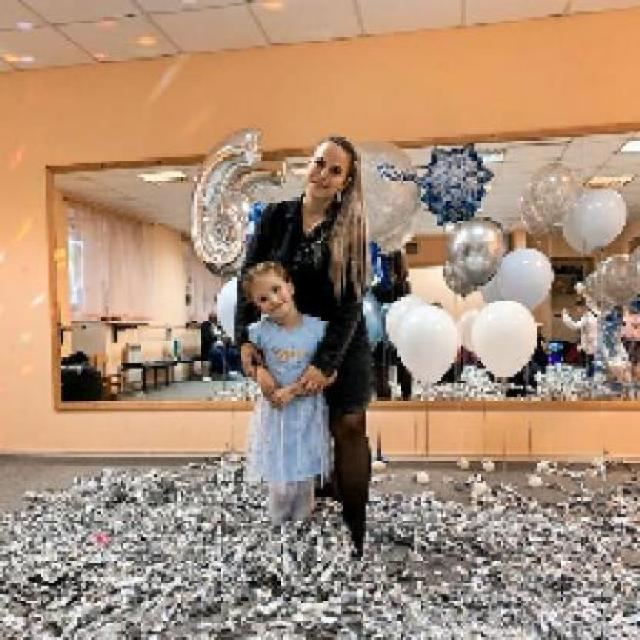child: (239, 260, 330, 523)
